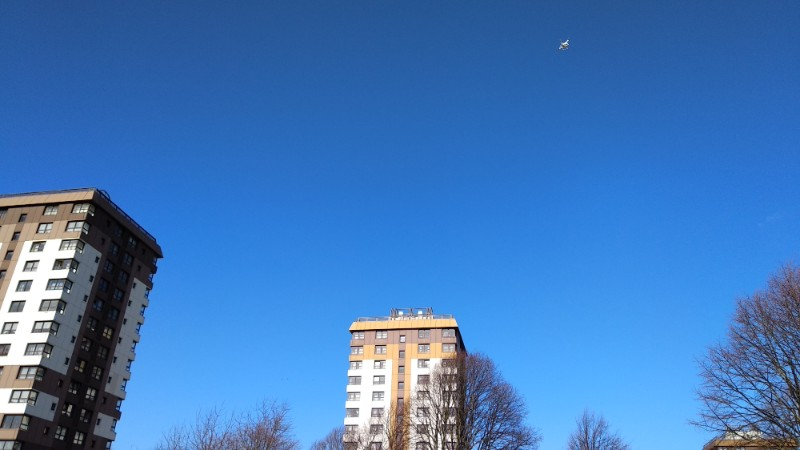drone: (558, 37, 572, 52)
